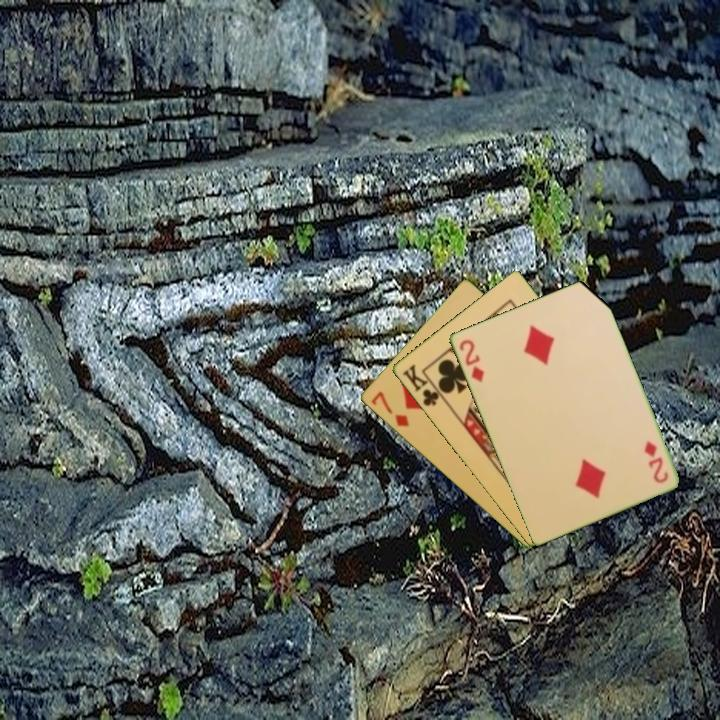2d: (455, 336, 487, 385), (640, 437, 671, 486)
7d: (367, 388, 412, 430)
Kc: (398, 361, 447, 409)
